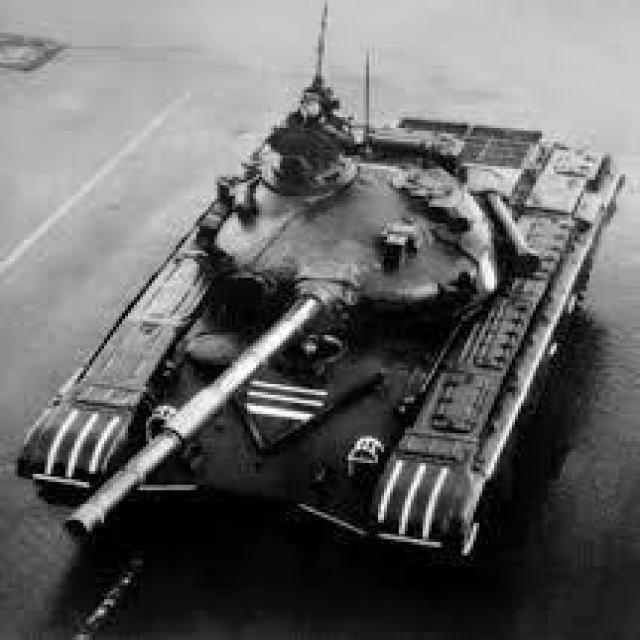MIL_MBT: (21, 101, 622, 561)
